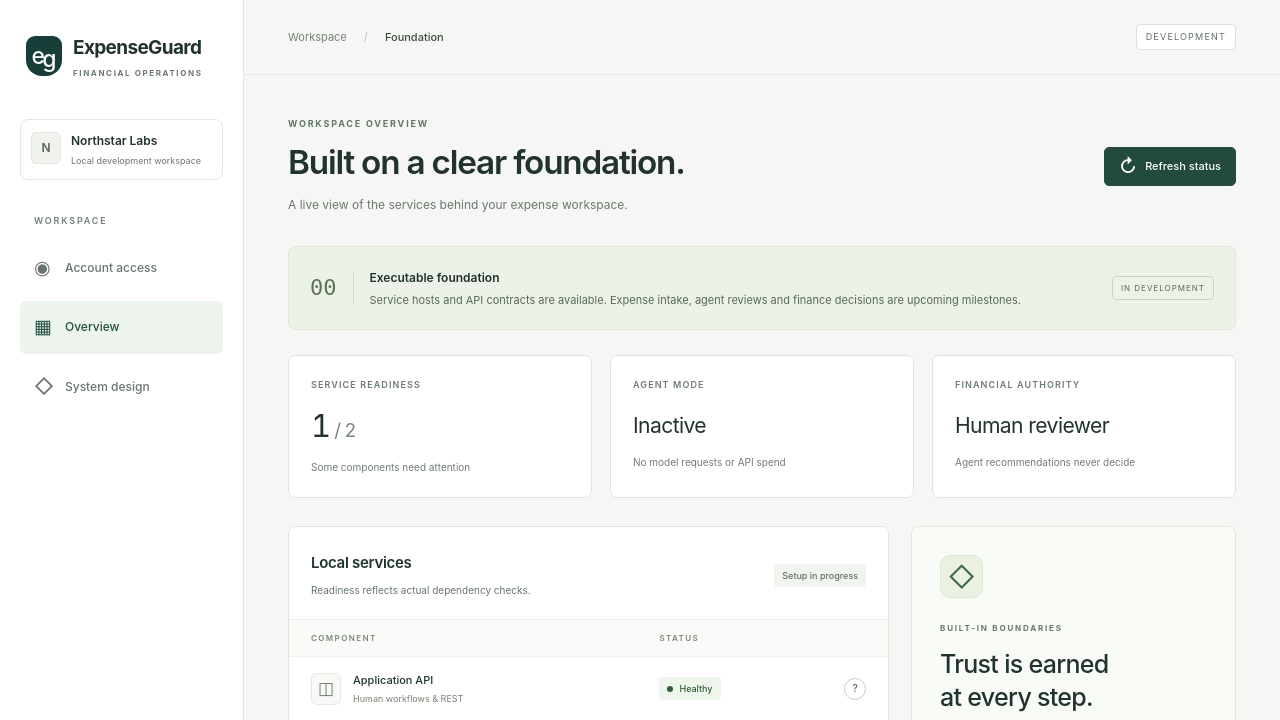
Test: workspace status › preserves but marks stale results when refresh fails
The image size is (1280, 720).
Expected: the text "Application API" is shown, [353,673,433,687]
Click the button "↻ Refresh status". click: (1170, 167)
box: [1104,147,1236,186]
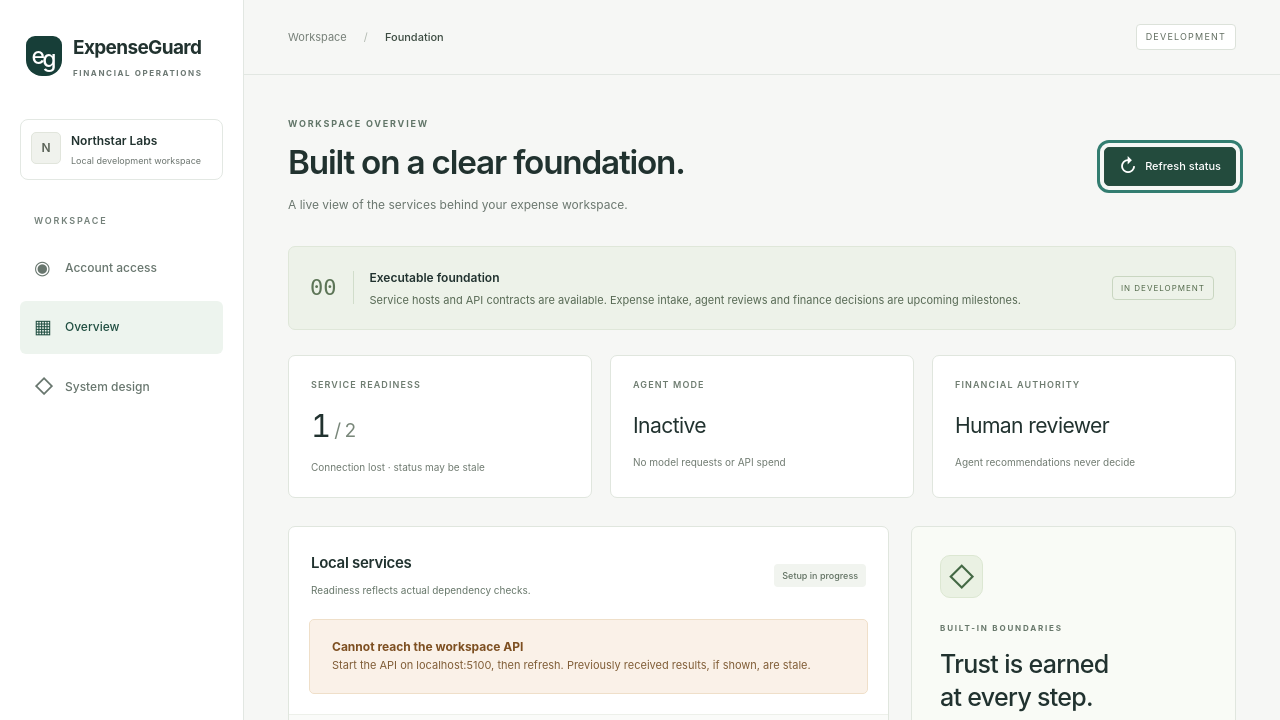
Now the message is shown, box [309,619,868,694]
Now the text "Healthy" is gone
